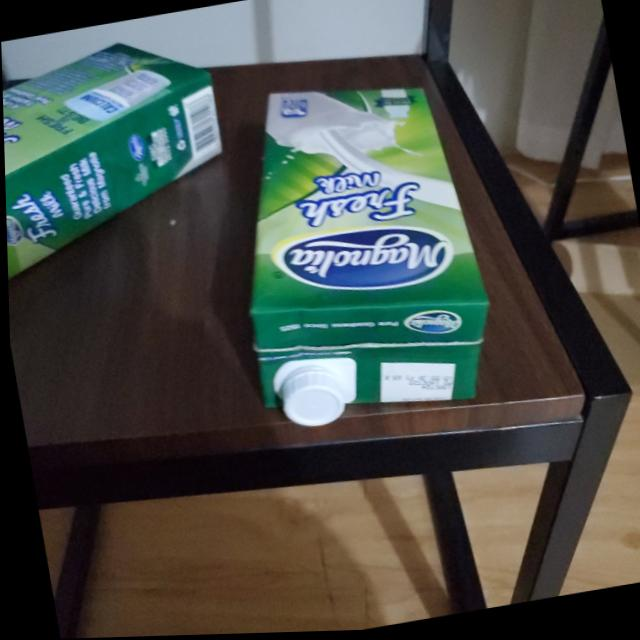milk: (209, 59, 513, 442), (1, 28, 246, 295)
